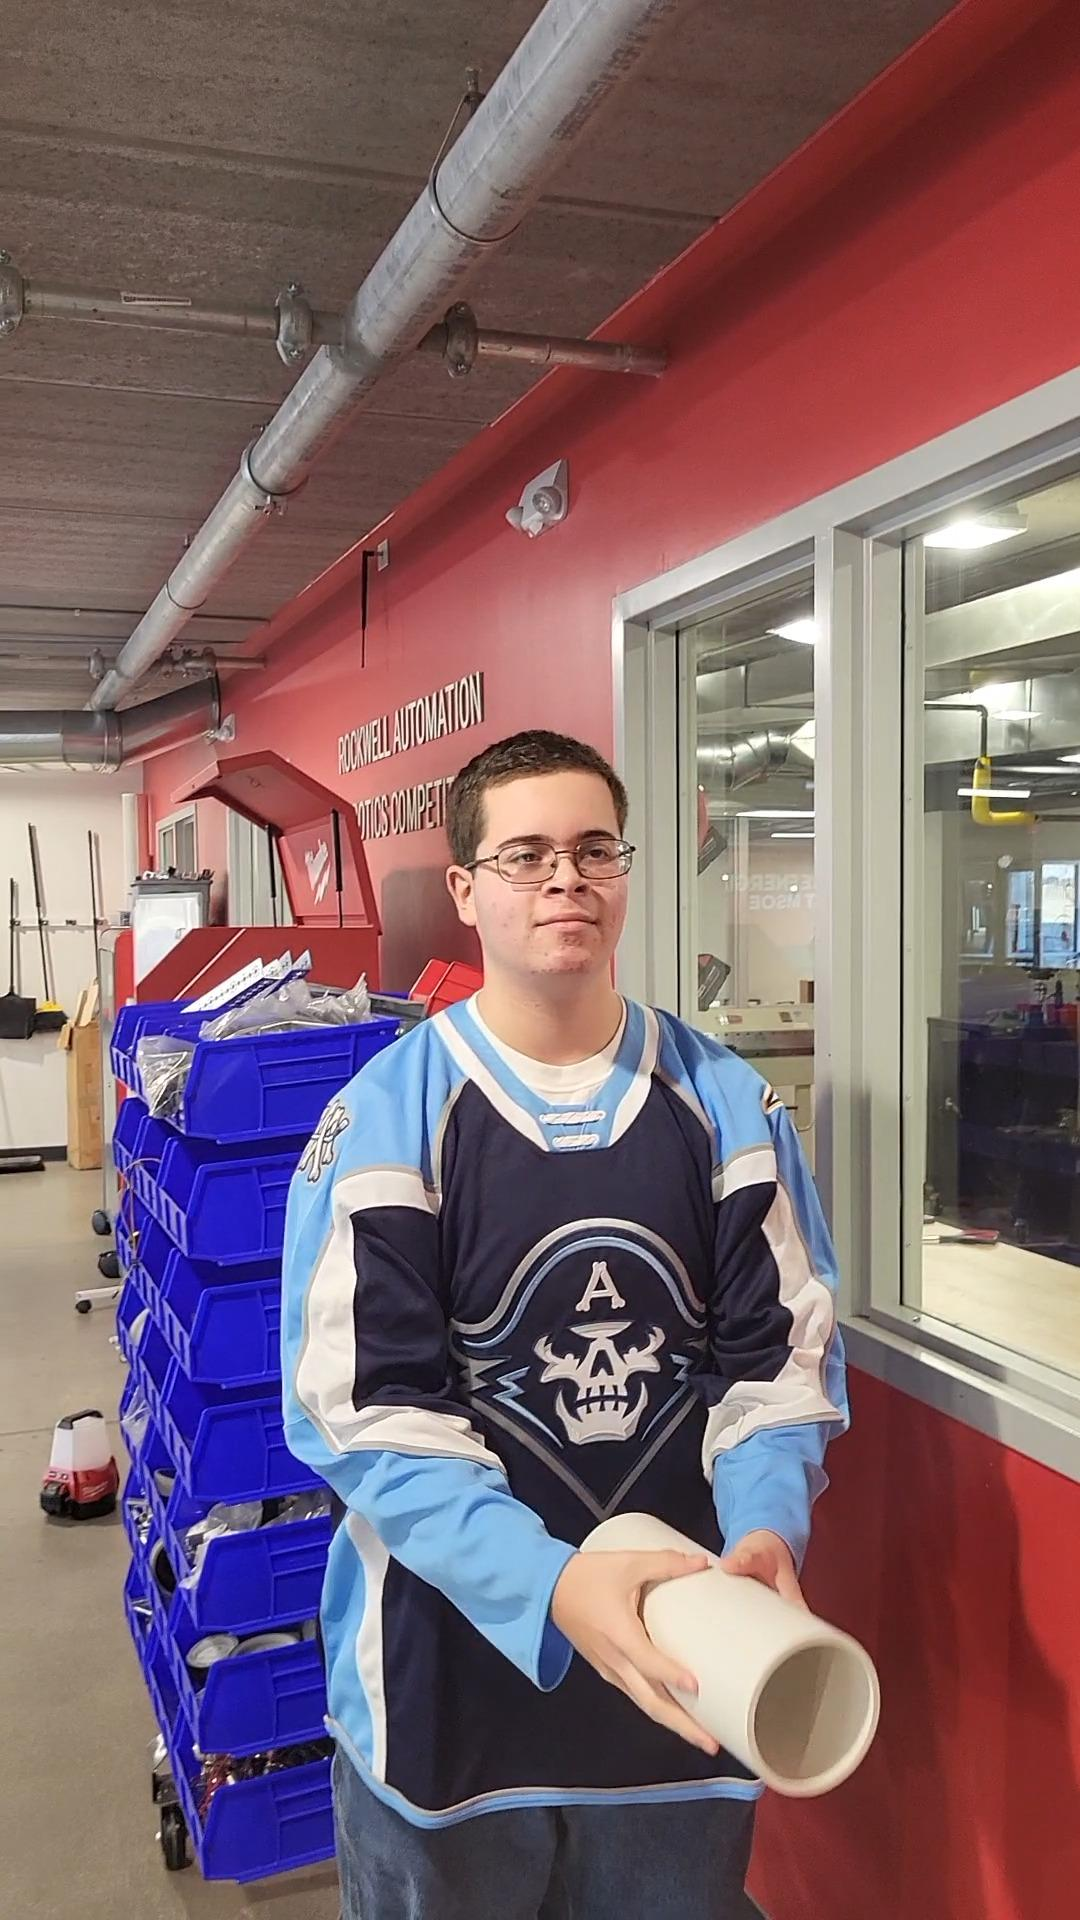coral: (560, 1498, 880, 1807)
